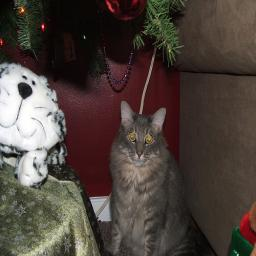catnose: (134, 148, 145, 158)
